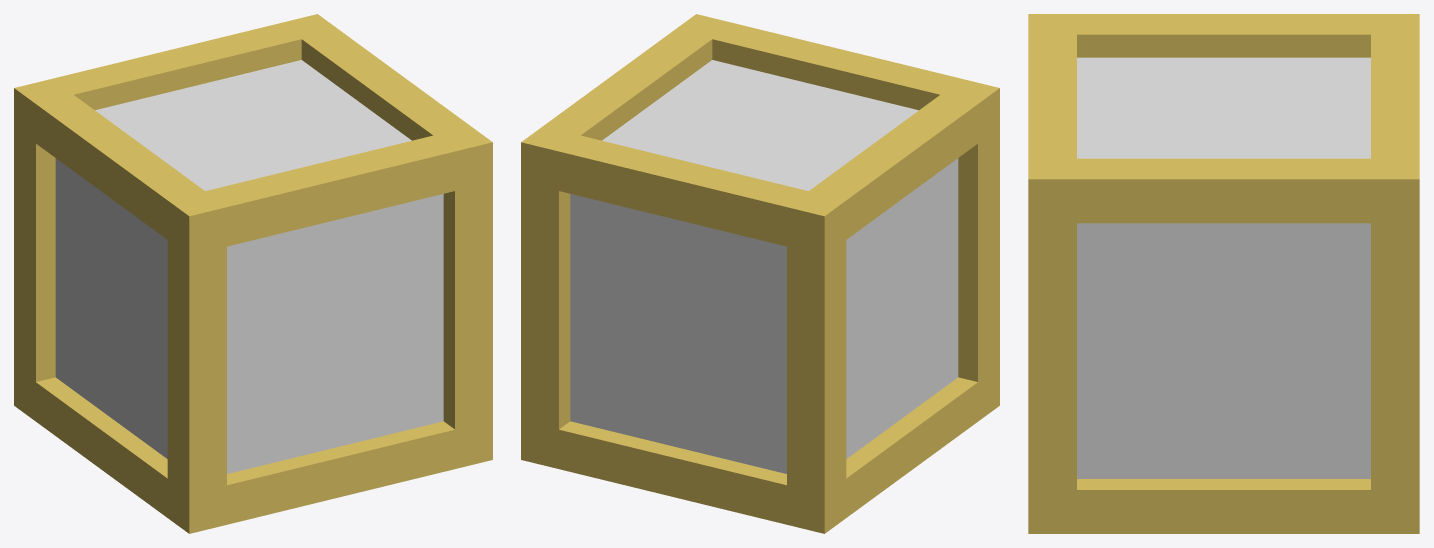
The picture shows the model from 3 angles, left to right: view 1: azimuth 30°, elevation 25°; view 2: azimuth 150°, elevation 25°; view 3: azimuth 270°, elevation 25°; orthographic projection. The views are drawn at different scales.
Visible parts, largest first — view 1: Cube; view 2: Cube; view 3: Cube.
Boxes of the visible parts, x1,y1,x2,y2 form: Cube: [14, 14, 492, 533]; Cube: [521, 14, 999, 533]; Cube: [1028, 14, 1419, 533].
Size of the model in its own units: 200 by 200 by 200.
